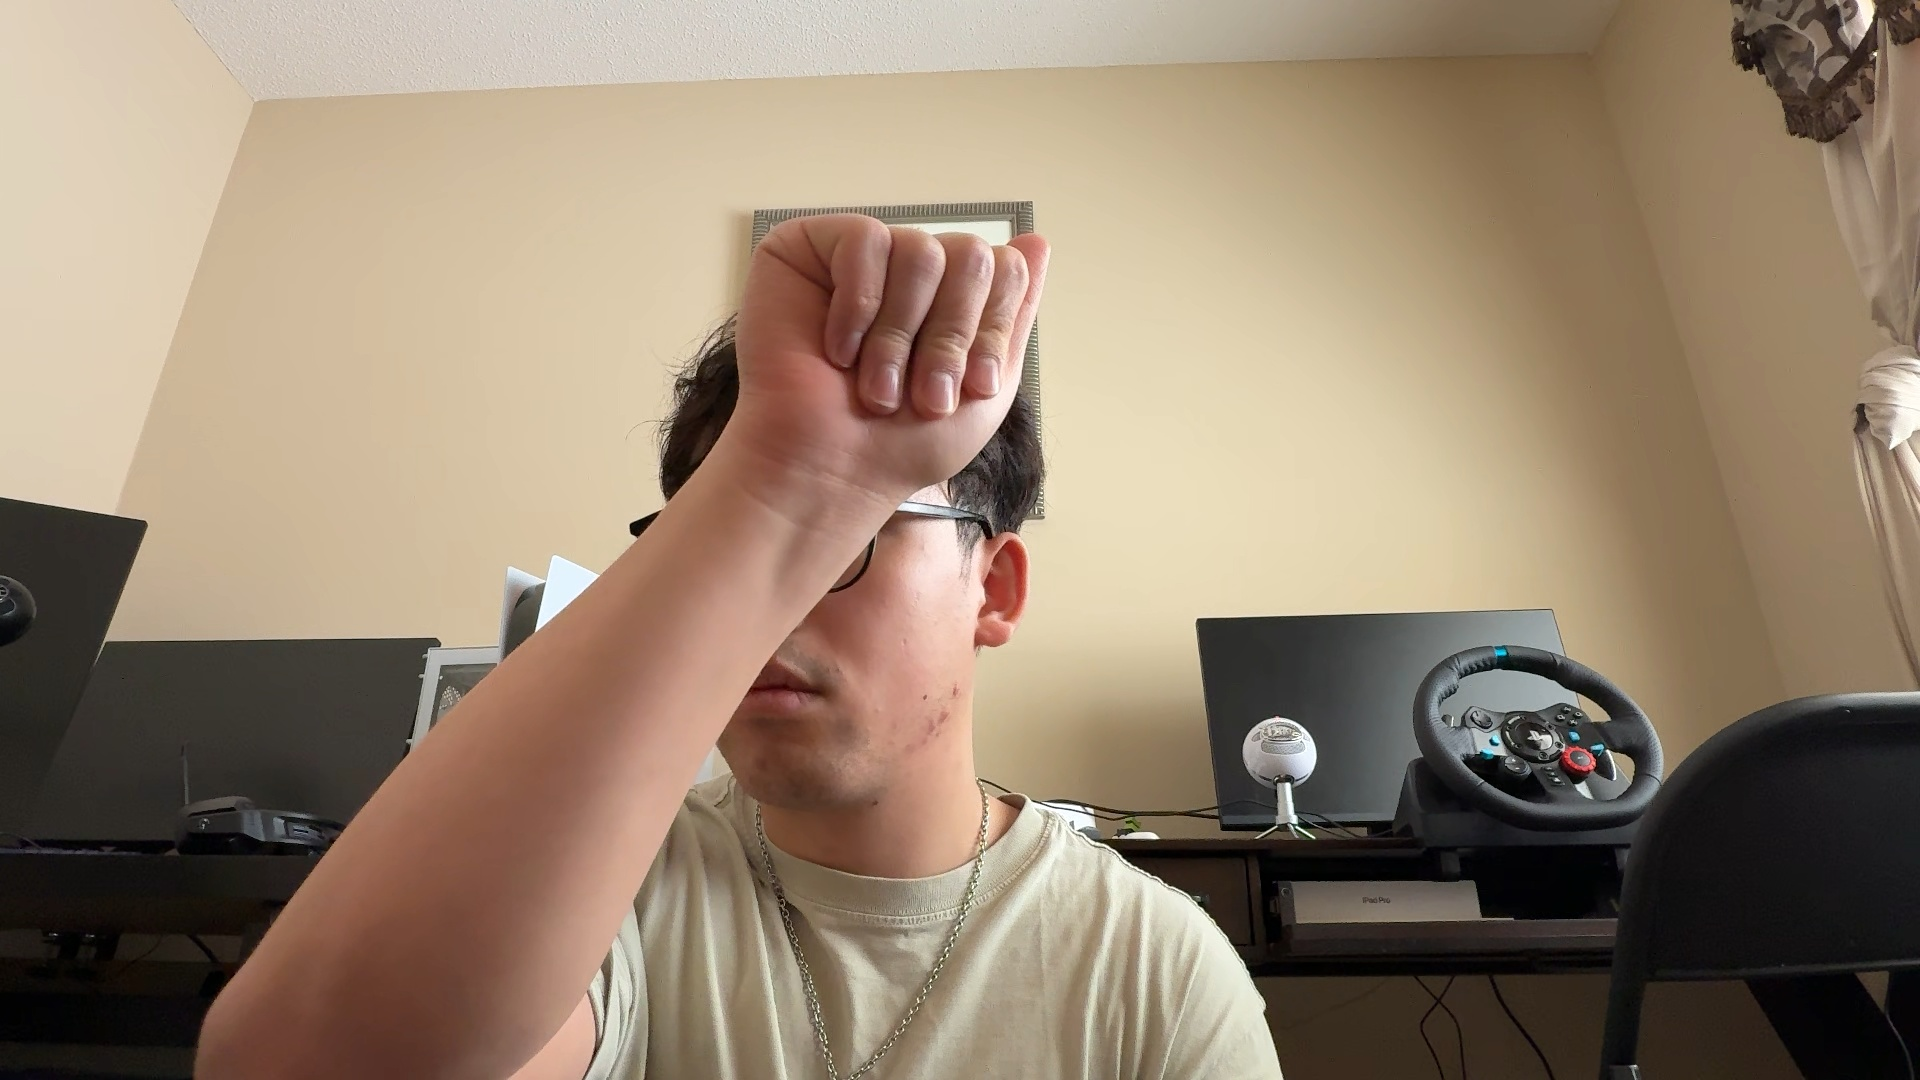A: (682, 166, 1098, 527)
